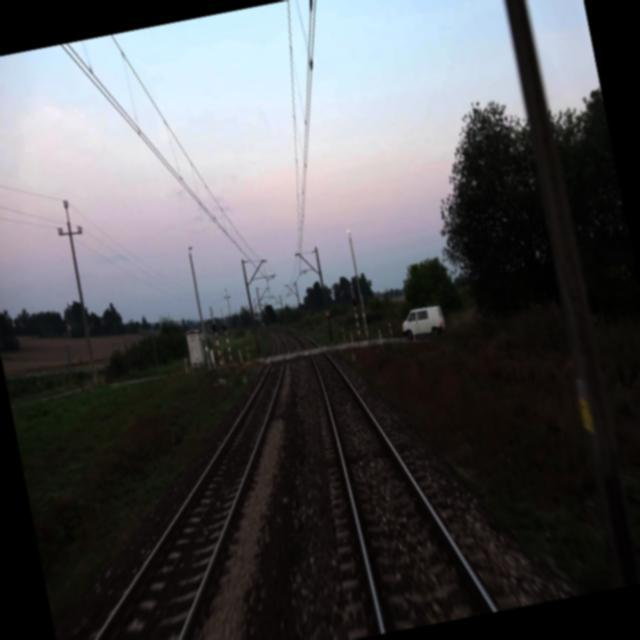rail: (273, 323, 552, 635)
